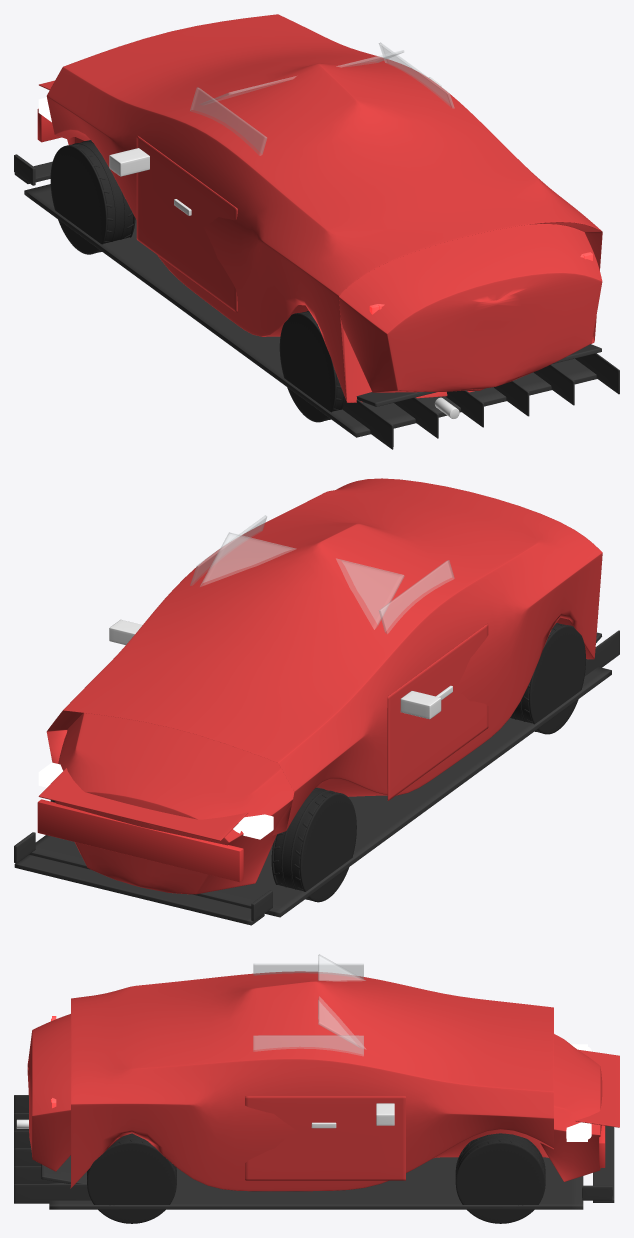
Rendered from Car_Volkswagen_Golf_GTI_Mk1_1970s_Complete.glb.
3 renders of one model, top to bottom at view 1: azimuth 30°, elevation 25°; view 2: azimuth 150°, elevation 25°; view 3: azimuth 270°, elevation 25°, orthographic. The views are drawn at different scales.
Parts seen in each view (by area): view 1: BODY_MainShell, UNDERBODY_FlatFloor, BODY_Door_FL, WHEEL_FL_Tire, WHEEL_RL_Tire, GLASS_Greenhouse, JEWELRY_Hardware, AERO_FrontSplitter; view 2: BODY_MainShell, UNDERBODY_FlatFloor, BODY_Door_FL, JEWELRY_GTI_RedGrilleFrame, WHEEL_FL_Tire, GLASS_Greenhouse, WHEEL_RL_Tire, AERO_FrontSplitter, BODY_Hood, JEWELRY_Hardware, LIGHTING_Headlamps; view 3: BODY_MainShell, UNDERBODY_FlatFloor, BODY_Door_FR, WHEEL_FR_Tire, WHEEL_RR_Tire, GLASS_Greenhouse, BODY_Hood, AERO_FrontSplitter, JEWELRY_Hardware, LIGHTING_Headlamps.
Part boxes in pixels (x1,y1,x2,y2): BODY_MainShell: [46, 14, 602, 402]; UNDERBODY_FlatFloor: [24, 184, 619, 449]; BODY_Door_FL: [136, 135, 237, 312]; WHEEL_FL_Tire: [50, 140, 135, 254]; WHEEL_RL_Tire: [279, 311, 345, 422]; GLASS_Greenhouse: [190, 42, 454, 155]; JEWELRY_Hardware: [109, 77, 441, 215]; AERO_FrontSplitter: [14, 154, 52, 185]; BODY_MainShell: [46, 478, 602, 894]; UNDERBODY_FlatFloor: [29, 630, 619, 917]; BODY_Door_FL: [387, 623, 488, 800]; JEWELRY_GTI_RedGrilleFrame: [37, 799, 243, 882]; WHEEL_FL_Tire: [271, 787, 356, 902]; GLASS_Greenhouse: [190, 515, 454, 633]; WHEEL_RL_Tire: [510, 623, 585, 734]; AERO_FrontSplitter: [14, 832, 272, 925]; BODY_Hood: [38, 768, 248, 841]; JEWELRY_Hardware: [109, 619, 452, 719]; LIGHTING_Headlamps: [38, 762, 273, 839]; BODY_MainShell: [27, 971, 602, 1191]; UNDERBODY_FlatFloor: [14, 1095, 583, 1209]; BODY_Door_FR: [245, 1096, 405, 1180]; WHEEL_FR_Tire: [455, 1133, 545, 1223]; WHEEL_RR_Tire: [87, 1133, 176, 1223]; GLASS_Greenhouse: [253, 954, 365, 1055]; BODY_Hood: [575, 1049, 619, 1127]; AERO_FrontSplitter: [582, 1125, 614, 1202]; JEWELRY_Hardware: [311, 1103, 394, 1128]; LIGHTING_Headlamps: [566, 1044, 591, 1141].
Size of what is drawn, in the model's own units: 1.94 by 1.39 by 3.94.
